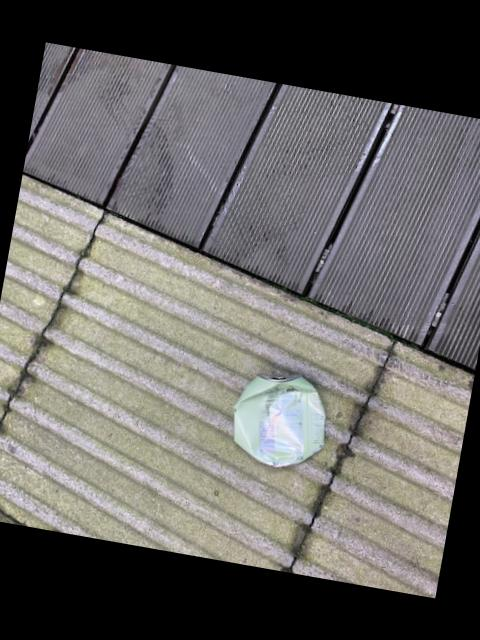metal: (234, 375, 324, 466)
